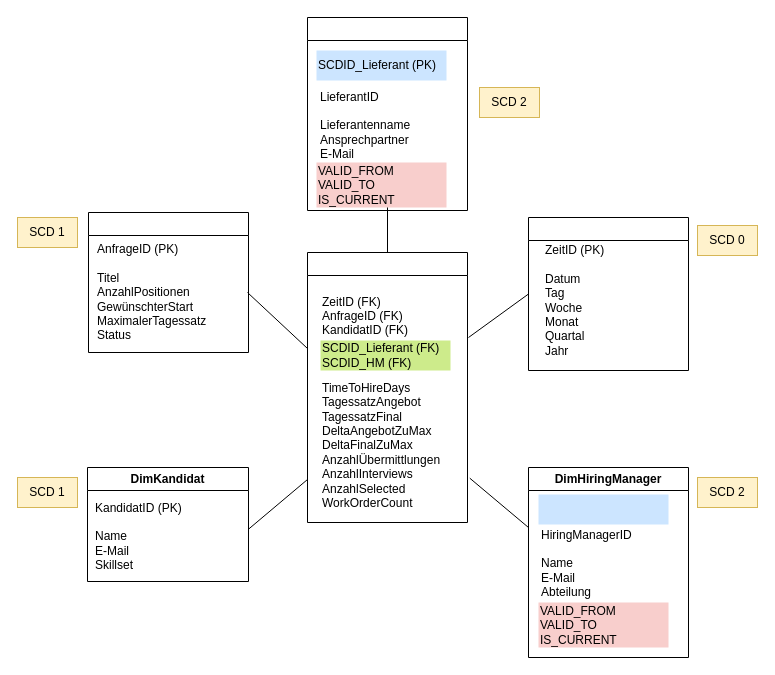
Image size: 775x675. Some labels were removed from this diagram. Each missing label, with the box of its shape:
DimAnfrage: (88, 212, 248, 352)
DimLieferant: (306, 16, 468, 210)
DimZeit: (528, 216, 688, 370)
FactMSP: (306, 252, 468, 522)
SCDID_HM (PK): (538, 494, 668, 524)
